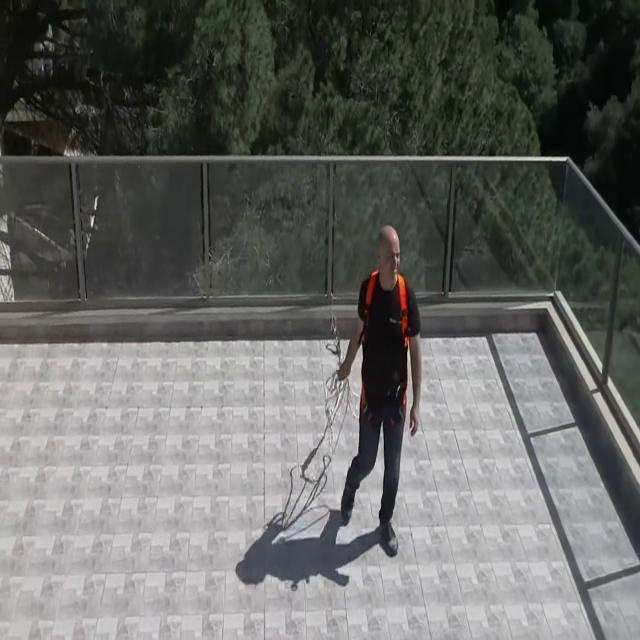Arnes_seguridad: (350, 273, 417, 369)
